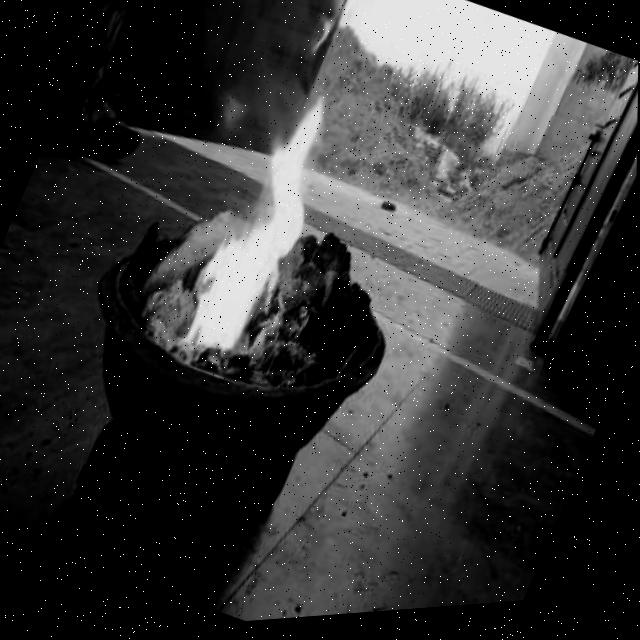Smoke: (169, 67, 365, 374), (202, 86, 260, 155)
